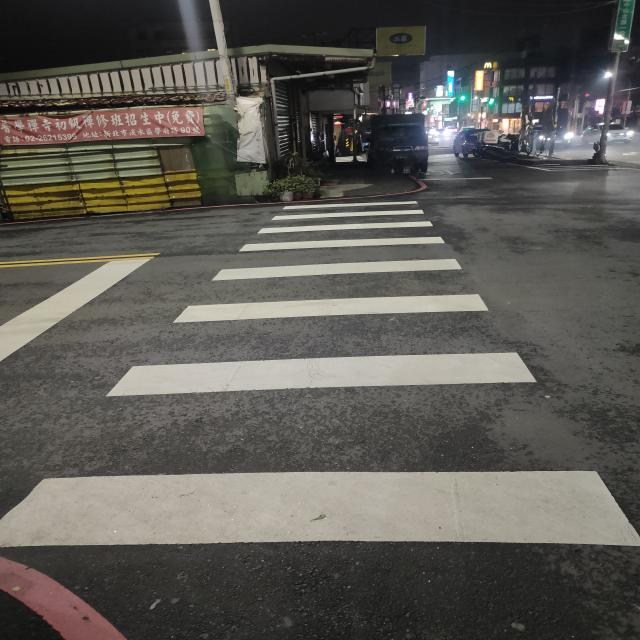zebra crossing: (1, 199, 640, 549)
